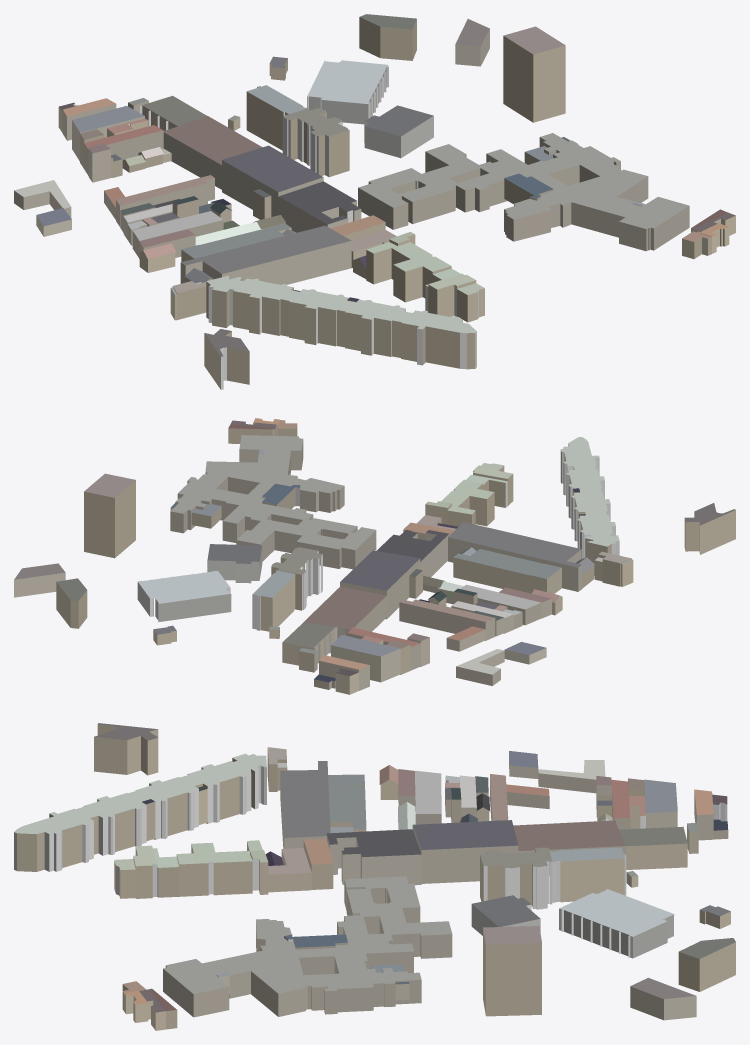
3 views of the same model, one above another, from view 1: azimuth 30°, elevation 25°; view 2: azimuth 150°, elevation 25°; view 3: azimuth 270°, elevation 25° (orthographic). The views are drawn at different scales.
Visible parts, largest first — view 1: tuile; view 2: tuile; view 3: tuile.
Boxes of the visible parts, box(x1,y1,x2,y2) form: tuile: box(14, 14, 735, 389); tuile: box(14, 418, 735, 694); tuile: box(14, 723, 735, 1030).
Size of the model in its own units: 269 by 38.98 by 295.
